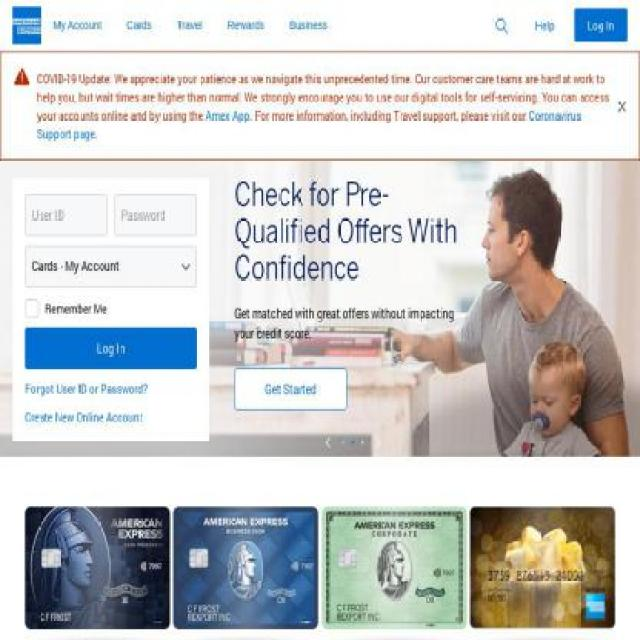button: (468, 507, 618, 639), (23, 507, 172, 639), (172, 507, 321, 639), (320, 507, 469, 639), (25, 328, 197, 369), (235, 368, 347, 410), (574, 8, 628, 41), (522, 8, 568, 41)
field: (24, 194, 108, 237), (114, 194, 197, 237)
